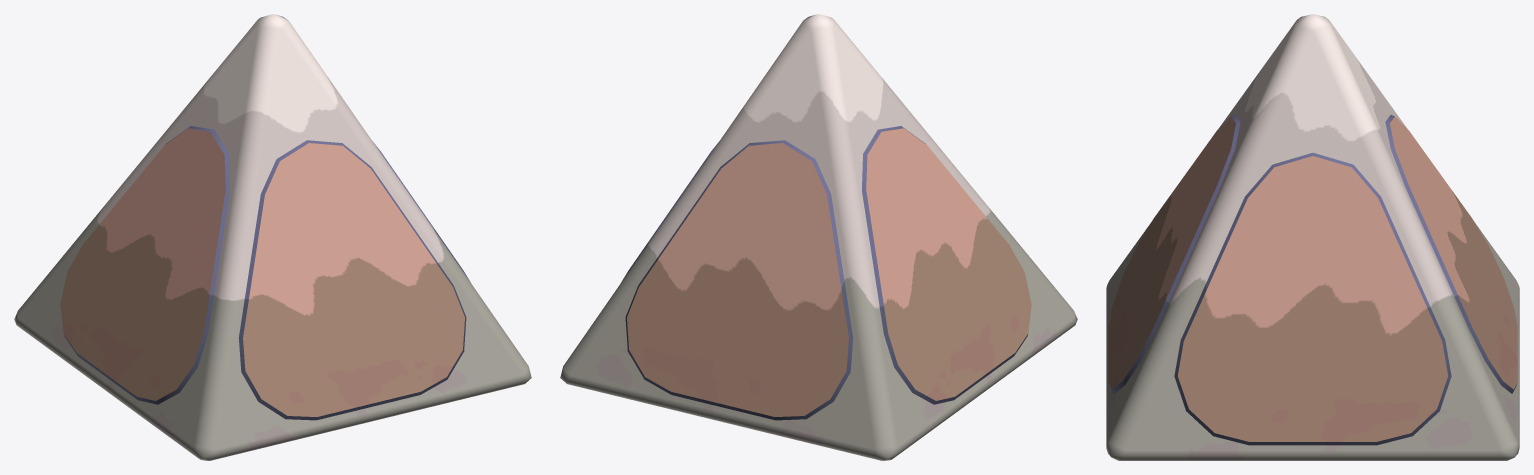
3 renders of one model, left to right at view 1: azimuth 30°, elevation 25°; view 2: azimuth 150°, elevation 25°; view 3: azimuth 270°, elevation 25°, orthographic. The views are drawn at different scales.
Visible parts, largest first — view 1: R4B_Pyramid; view 2: R4B_Pyramid; view 3: R4B_Pyramid.
Part boxes in pixels (x1,y1,x2,y2): R4B_Pyramid: (14,14,531,460); R4B_Pyramid: (560,14,1077,460); R4B_Pyramid: (1106,14,1519,460).
Size of the model in its own units: 0.4918 by 0.4807 by 0.4918.
3 materials, 3 textured.
